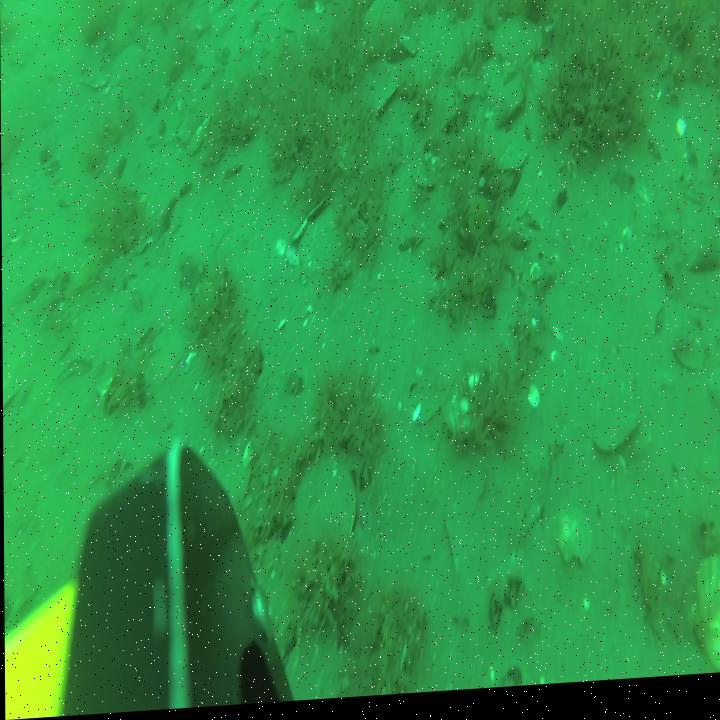scallop: (292, 456, 358, 563), (297, 201, 345, 286), (690, 552, 720, 684), (490, 16, 545, 82), (549, 503, 595, 580), (214, 449, 254, 521), (364, 0, 407, 50), (109, 42, 146, 94)
